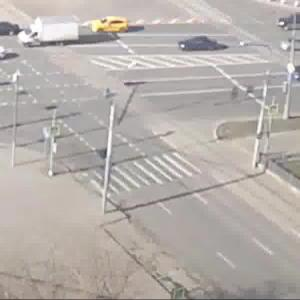car: (17, 17, 84, 52), (84, 13, 135, 40), (270, 13, 300, 35), (180, 37, 213, 55)
